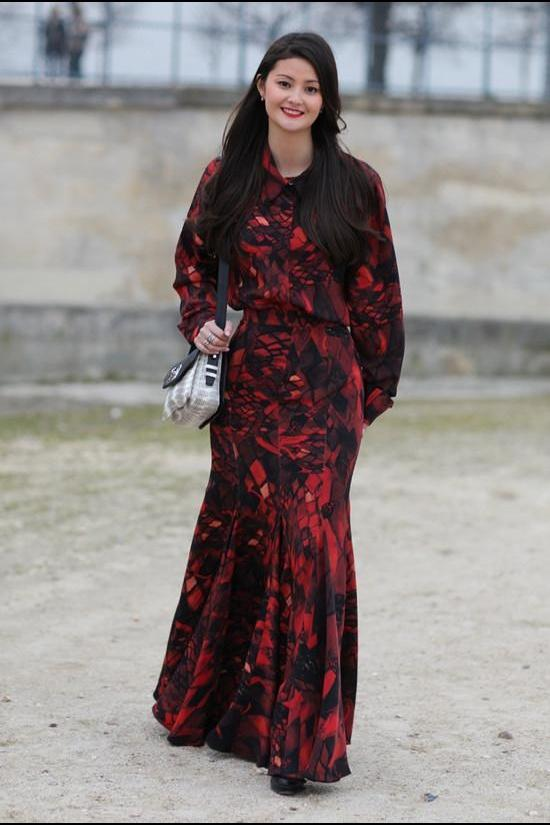dress: (151, 153, 403, 783)
